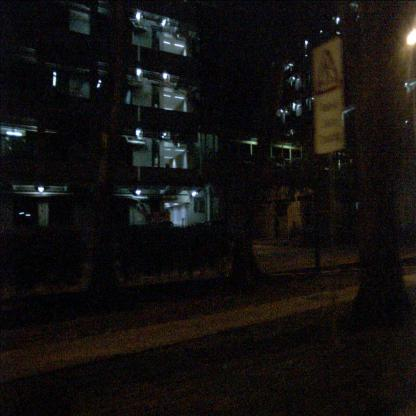human-pedestrian-adult: (289, 219, 298, 264)
